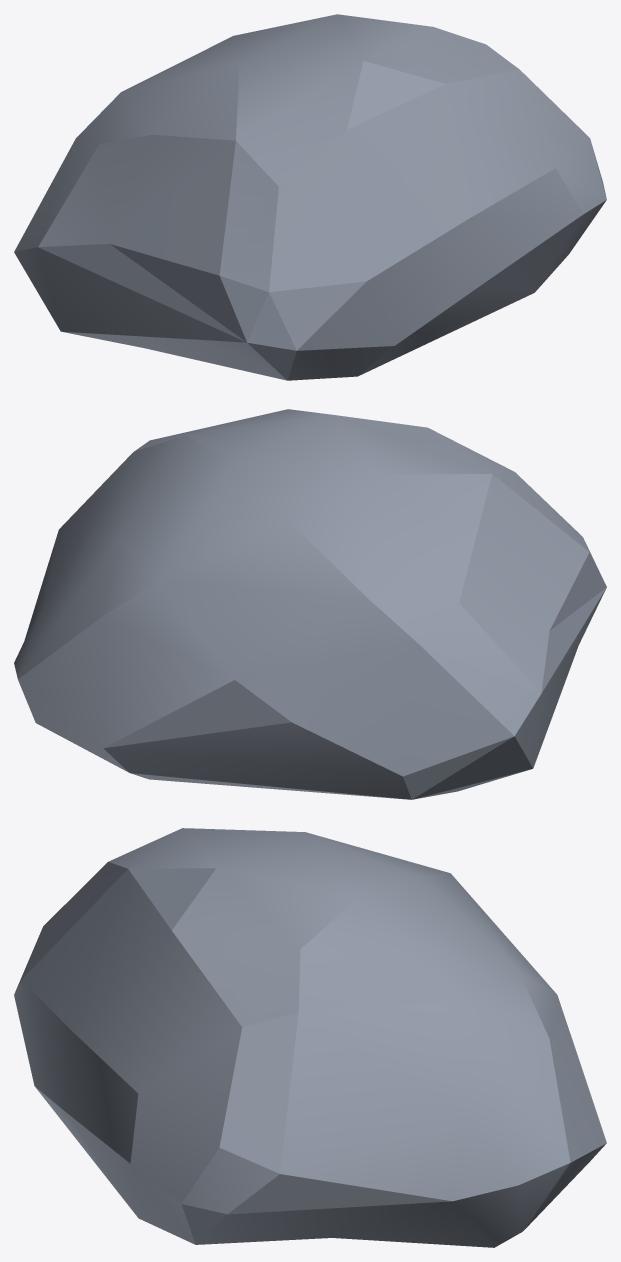
Rendered from Stone 3.fbx.
3 views of the same model, one above another, from view 1: azimuth 30°, elevation 25°; view 2: azimuth 150°, elevation 25°; view 3: azimuth 270°, elevation 25° (orthographic). The views are drawn at different scales.
Visible parts, largest first — view 1: Stone.002; view 2: Stone.002; view 3: Stone.002.
Part boxes in pixels (left/top/right/bottom): Stone.002: left=14, top=14, right=606, bottom=380; Stone.002: left=14, top=409, right=606, bottom=799; Stone.002: left=14, top=828, right=606, bottom=1247.
Bounding box in the file's own units: 68.14 × 36.1 × 60.23.
